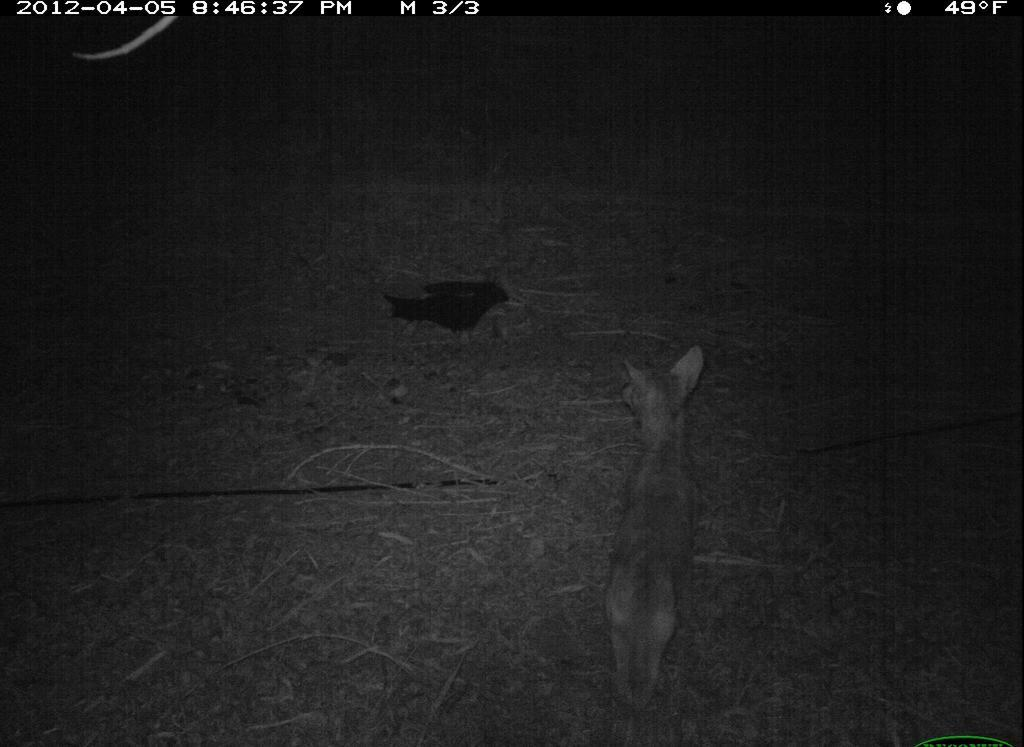coyote: (600, 349, 717, 713)
